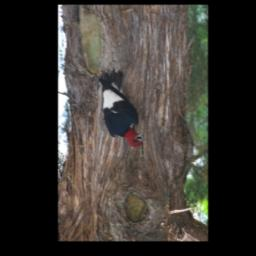Woodpecker: (94, 69, 149, 150)
